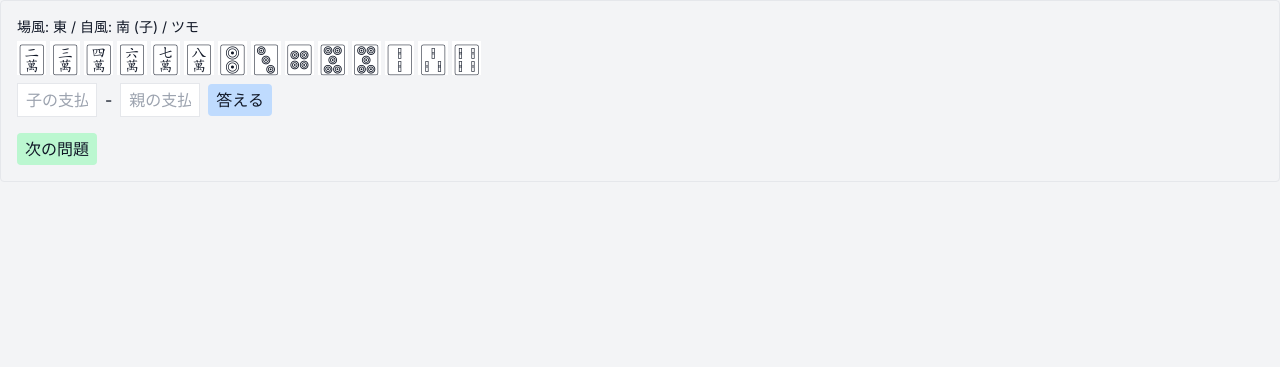
Test: ScoreQuiz › handles tsumo answers with split payments
In the field with placeholder "子の支払い": (57, 100) top-left (17, 83), bottom-right (97, 117), type "2000"
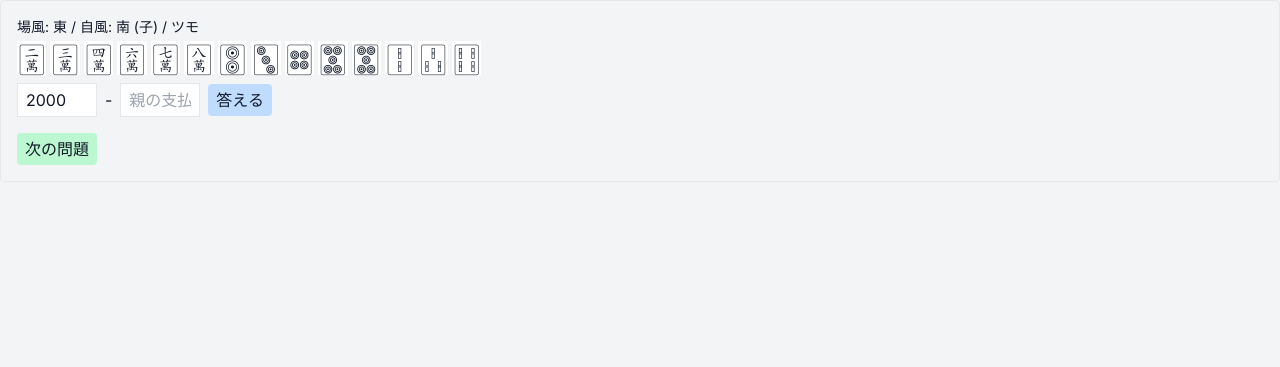
In the field with placeholder "親の支払い": (160, 100) top-left (120, 83), bottom-right (200, 117), type "3900"
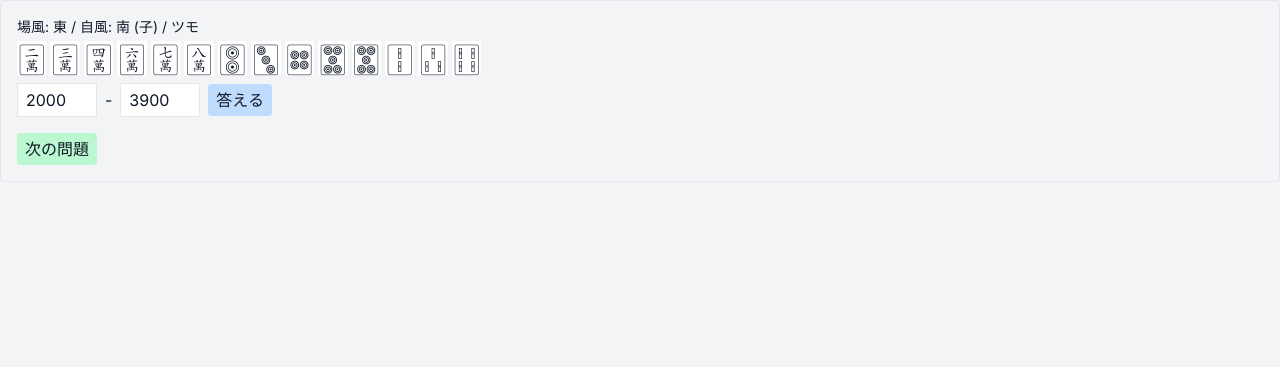
Click the button "答える": click(240, 100) top-left (208, 84), bottom-right (272, 116)
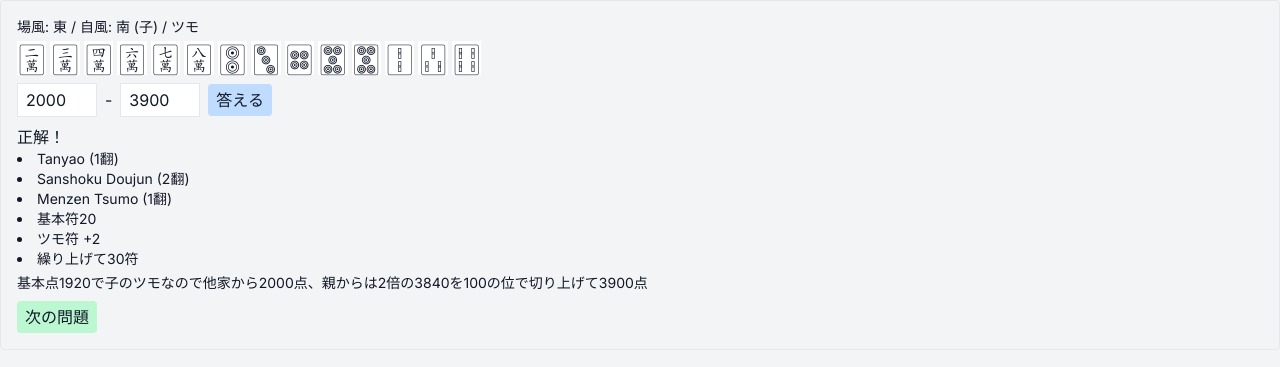
Check: the text "正解！" is shown, box top-left (17, 127), bottom-right (65, 147)
